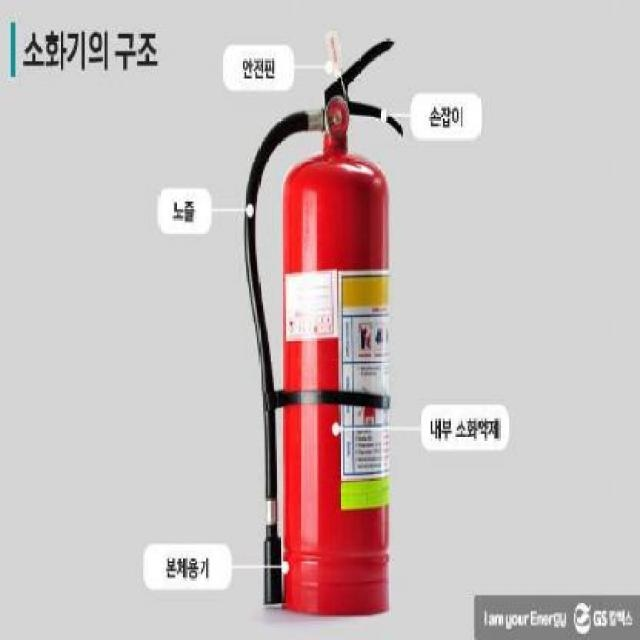fire extinguisher: (242, 37, 404, 618)
